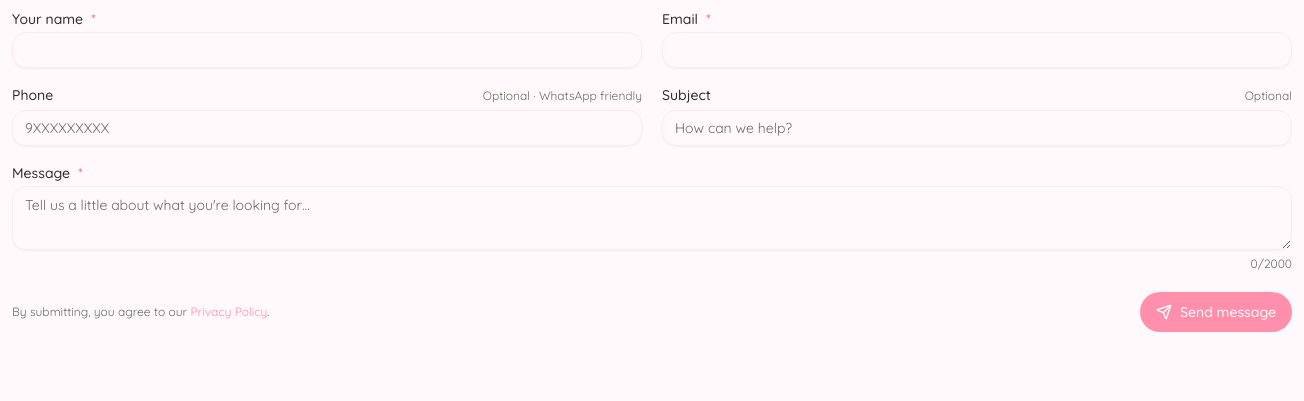
Test case: ContactForm › blocks submit and shows errors when required fields are empty
Click the button "Send message" at point(1216, 312), box 1140,292 -> 1292,332
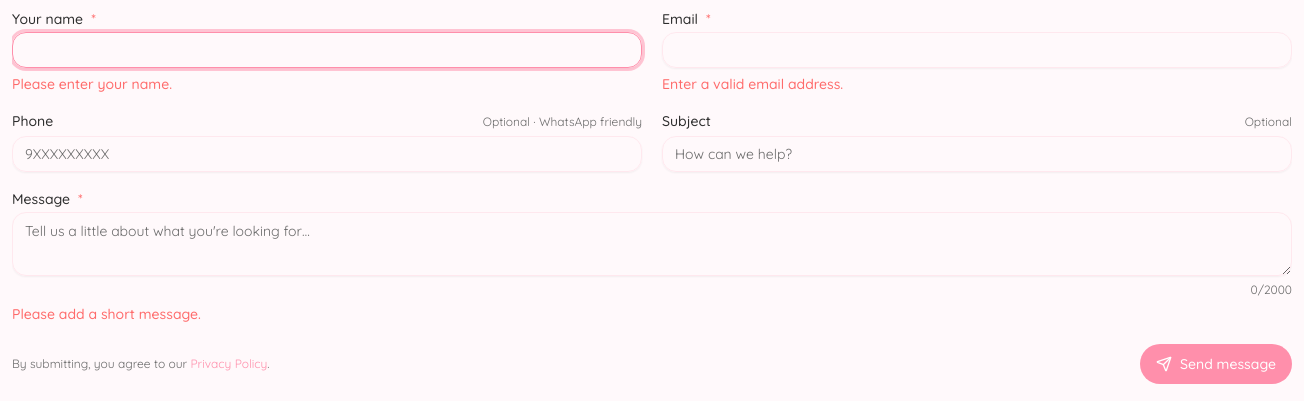
Now the text "Please enter your name." is shown, box 12,75 -> 172,93
